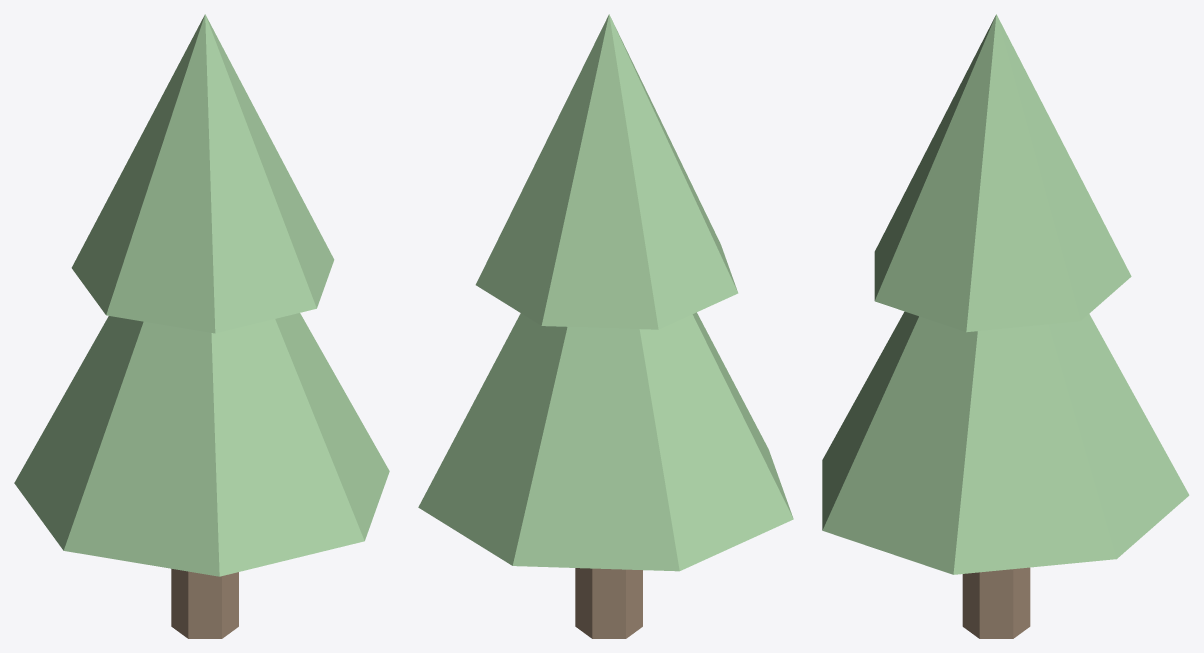
Rendered from Pine.fbx.
3 views of the same model, side by side, from view 1: azimuth 30°, elevation 25°; view 2: azimuth 150°, elevation 25°; view 3: azimuth 270°, elevation 25° (orthographic).
Visible parts, largest first — view 1: Pine; view 2: Pine; view 3: Pine.
Part boxes in pixels (bbox=[...]): Pine: bbox=[14, 14, 389, 638]; Pine: bbox=[418, 14, 793, 638]; Pine: bbox=[822, 14, 1189, 638].
Size of the model in its own units: 0.39 by 0.7 by 0.3802.
